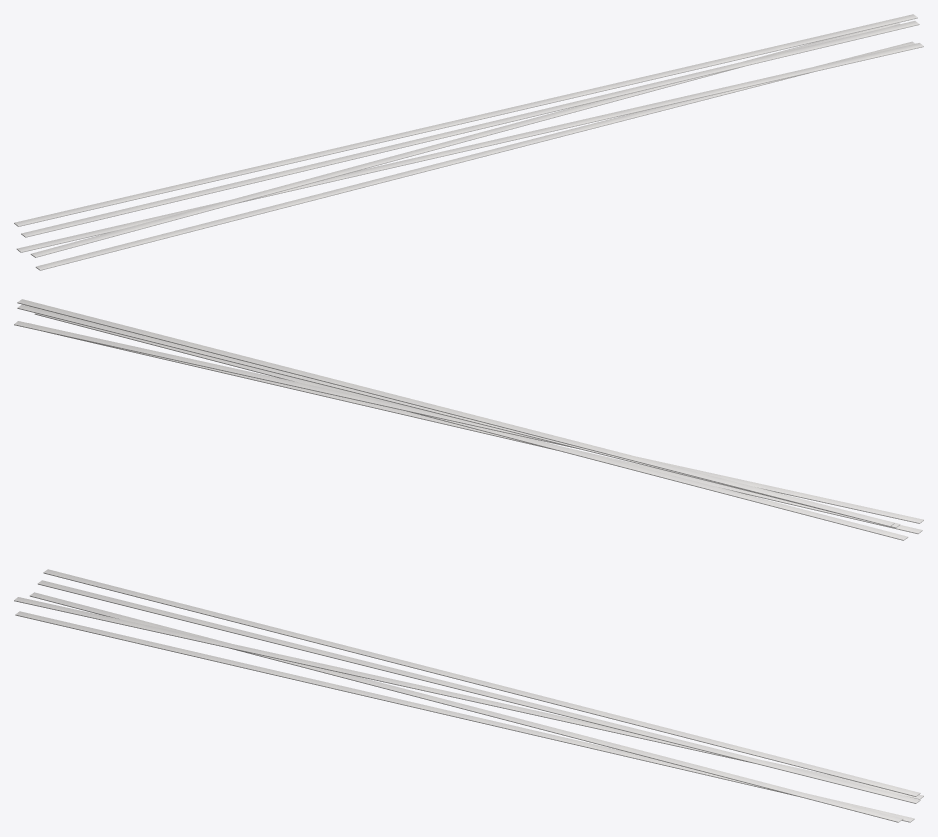
File: PIS-JUN-001_anim.glb
The picture shows the model from 3 angles, top to bottom: view 1: azimuth 30°, elevation 25°; view 2: azimuth 150°, elevation 25°; view 3: azimuth 330°, elevation 25°; orthographic projection.
Parts seen in each view (by area): view 1: PIS-JUN-001_anim4, PIS-JUN-001_anim3, PIS-JUN-001_anim1, PIS-JUN-001_anim0, PIS-JUN-001_anim2; view 2: PIS-JUN-001_anim4, PIS-JUN-001_anim2, PIS-JUN-001_anim1, PIS-JUN-001_anim3, PIS-JUN-001_anim0; view 3: PIS-JUN-001_anim3, PIS-JUN-001_anim4, PIS-JUN-001_anim1, PIS-JUN-001_anim0, PIS-JUN-001_anim2.
Part boxes in pixels (bbox=[...]): PIS-JUN-001_anim4: bbox=[14, 14, 917, 226]; PIS-JUN-001_anim3: bbox=[21, 21, 919, 237]; PIS-JUN-001_anim1: bbox=[16, 43, 923, 252]; PIS-JUN-001_anim0: bbox=[35, 41, 914, 270]; PIS-JUN-001_anim2: bbox=[30, 23, 899, 257]; PIS-JUN-001_anim4: bbox=[17, 299, 894, 526]; PIS-JUN-001_anim2: bbox=[14, 321, 923, 523]; PIS-JUN-001_anim1: bbox=[34, 313, 908, 540]; PIS-JUN-001_anim3: bbox=[17, 304, 900, 528]; PIS-JUN-001_anim0: bbox=[30, 323, 922, 533]; PIS-JUN-001_anim3: bbox=[37, 580, 920, 803]; PIS-JUN-001_anim4: bbox=[43, 569, 920, 796]; PIS-JUN-001_anim1: bbox=[29, 592, 903, 822]; PIS-JUN-001_anim0: bbox=[15, 611, 914, 822]; PIS-JUN-001_anim2: bbox=[14, 597, 923, 799].
Size of the model in its own units: 3.02 by 0.0829 by 0.1729.
1 material, 1 textured.
